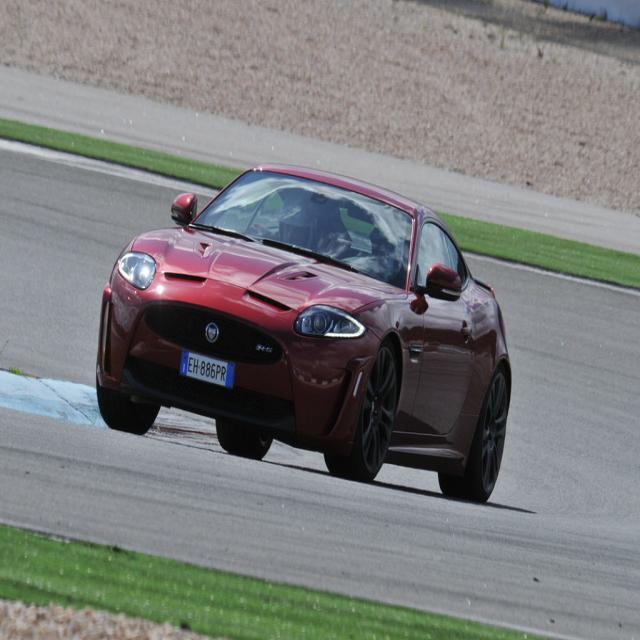car: (96, 165, 516, 504)
